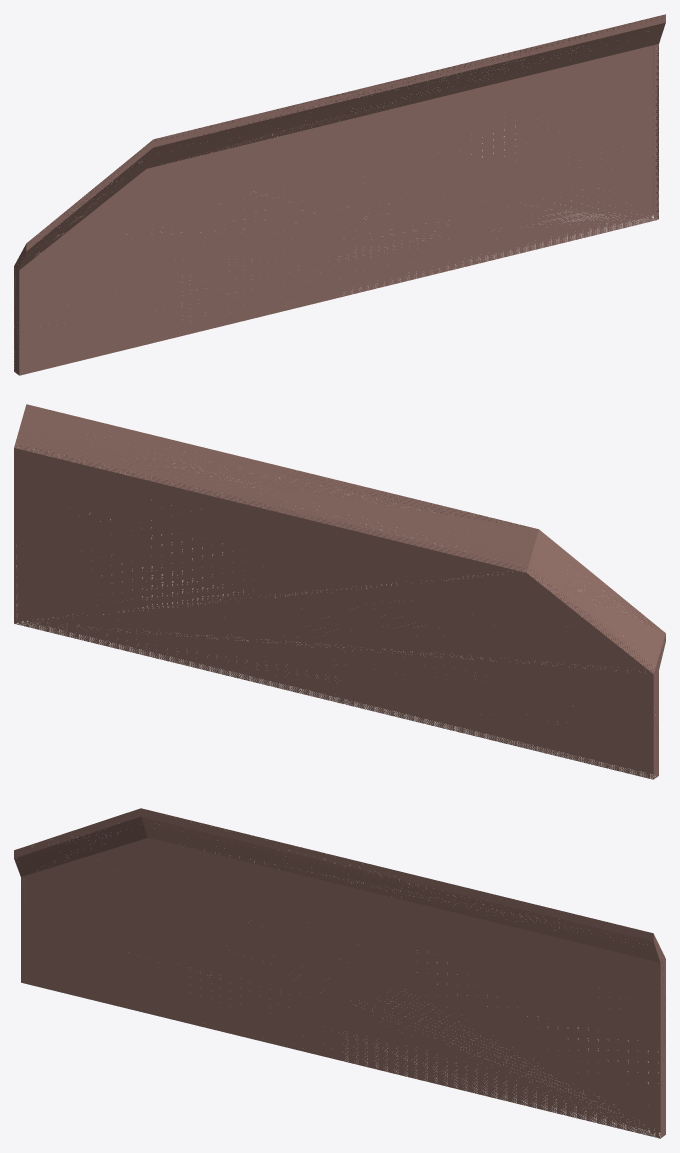
File: SW_ENV_OpenTunnel_Riser_WireFence_Collision.fbx
3 renders of one model, top to bottom at view 1: azimuth 30°, elevation 25°; view 2: azimuth 150°, elevation 25°; view 3: azimuth 330°, elevation 25°, orthographic.
Visible parts, largest first — view 1: SW_ENV_OpenTunnel_Riser_WireFence_Collision; view 2: SW_ENV_OpenTunnel_Riser_WireFence_Collision; view 3: SW_ENV_OpenTunnel_Riser_WireFence_Collision.
Boxes of the visible parts, left/top/right/bottom form: SW_ENV_OpenTunnel_Riser_WireFence_Collision: left=14, top=14, right=665, bottom=375; SW_ENV_OpenTunnel_Riser_WireFence_Collision: left=14, top=404, right=665, bottom=779; SW_ENV_OpenTunnel_Riser_WireFence_Collision: left=14, top=808, right=665, bottom=1138.
Size of the model in its own units: 761 by 239 by 25.55.
